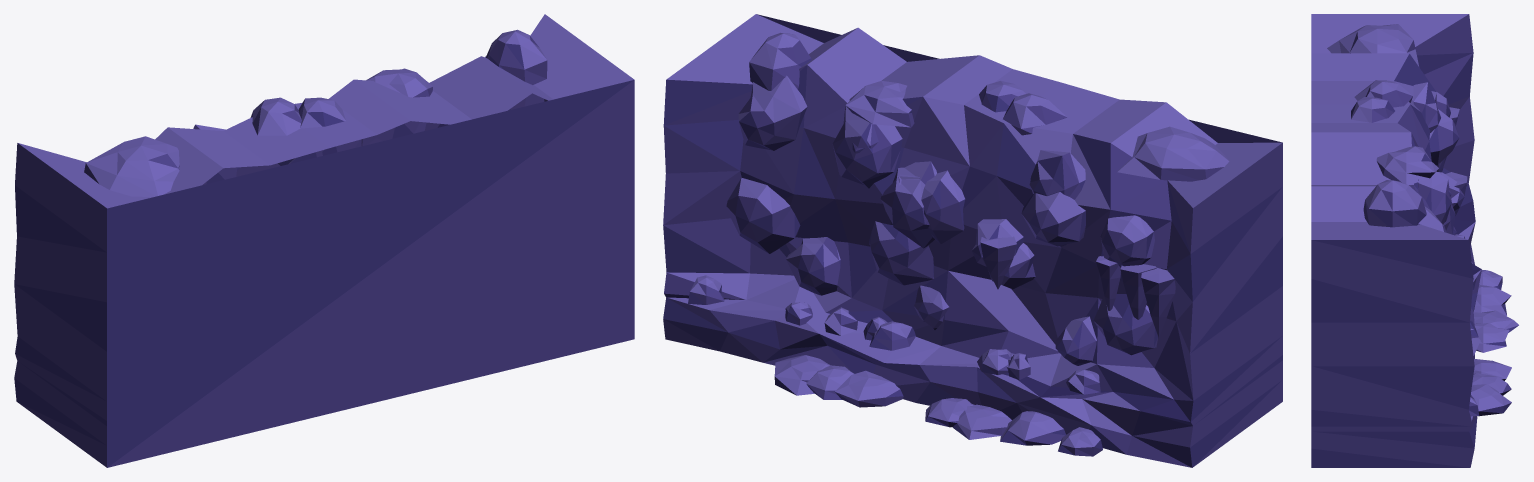
The model's file is Mine_Perimeter_Wall_B.obj.
The picture shows the model from 3 angles, left to right: view 1: azimuth 30°, elevation 25°; view 2: azimuth 150°, elevation 25°; view 3: azimuth 270°, elevation 25°; orthographic projection. The views are drawn at different scales.
Visible parts, largest first — view 1: Mine_Perimeter_Wall_B; view 2: Mine_Perimeter_Wall_B; view 3: Mine_Perimeter_Wall_B.
Part boxes in pixels (x1,y1,x2,y2): Mine_Perimeter_Wall_B: [14, 14, 634, 467]; Mine_Perimeter_Wall_B: [663, 14, 1282, 467]; Mine_Perimeter_Wall_B: [1311, 14, 1518, 467].
Size of the model in its own units: 20 by 10.63 by 7.78.
